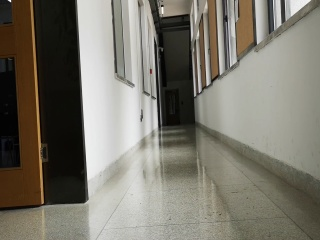room: (2, 3, 93, 209)
